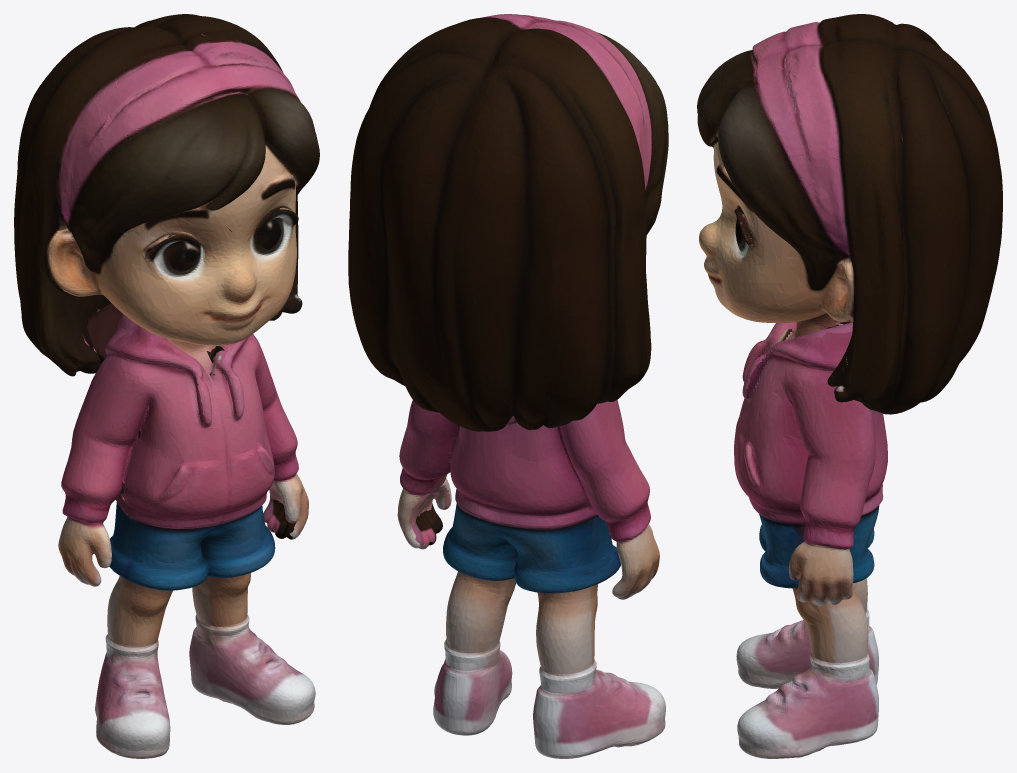
The model's file is girl_1_with_texture.glb.
3 views of the same model, side by side, from view 1: azimuth 30°, elevation 25°; view 2: azimuth 150°, elevation 25°; view 3: azimuth 270°, elevation 25° (orthographic). The views are drawn at different scales.
Parts seen in each view (by area): view 1: world; view 2: world; view 3: world.
Boxes of the visible parts, bbox=[...] form: world: bbox=[14, 14, 319, 758]; world: bbox=[348, 14, 668, 758]; world: bbox=[697, 14, 1002, 758].
Size of the model in its own units: 0.8192 by 1.99 by 0.8098.
1 material, 1 textured.
